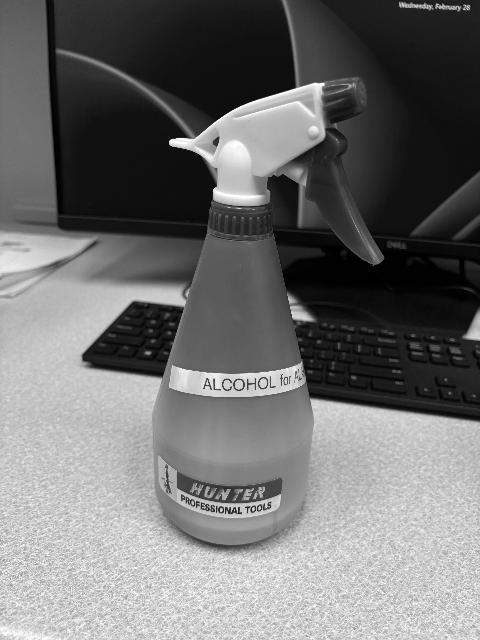AlcoholSpray: (150, 77, 385, 551)
